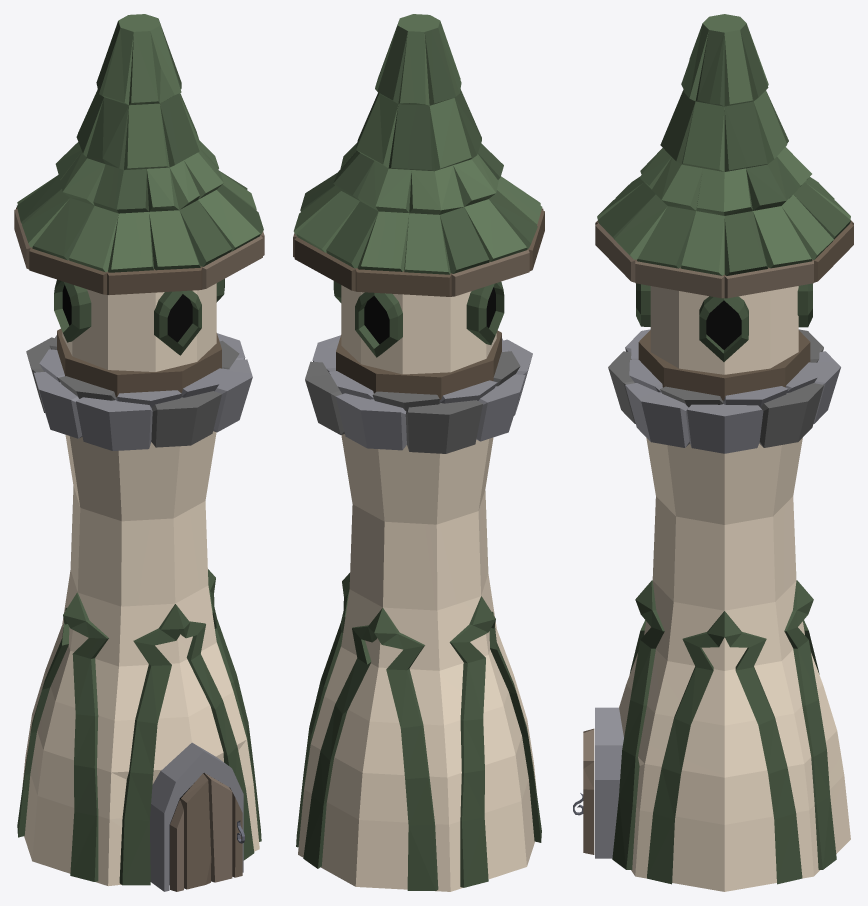
The model's file is Archer_Tower_Lvl_1.fbx.
3 views of the same model, side by side, from view 1: azimuth 30°, elevation 25°; view 2: azimuth 150°, elevation 25°; view 3: azimuth 270°, elevation 25° (orthographic).
Visible parts, largest first — view 1: archer_tower_LVL_1; view 2: archer_tower_LVL_1; view 3: archer_tower_LVL_1.
Part boxes in pixels (bbox=[...]): archer_tower_LVL_1: bbox=[14, 14, 264, 891]; archer_tower_LVL_1: bbox=[293, 14, 544, 891]; archer_tower_LVL_1: bbox=[573, 14, 853, 891].
Bounding box in the file's own units: 429 × 1494 × 466.
